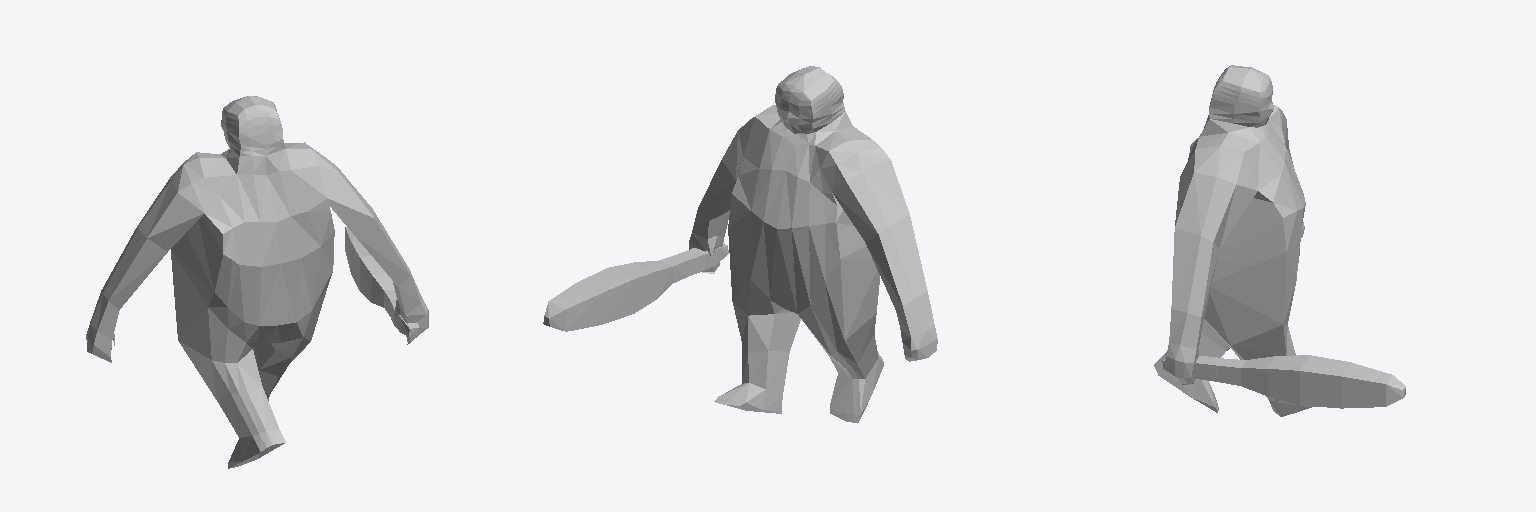
Rendered from Enemigo28.obj.
3 views of the same model, side by side, from view 1: azimuth 30°, elevation 25°; view 2: azimuth 150°, elevation 25°; view 3: azimuth 270°, elevation 25° (orthographic).
Visible parts, largest first — view 1: Cube; view 2: Cube; view 3: Cube.
Boxes of the visible parts, <box> form: Cube: <box>86,96,428,468</box>; Cube: <box>543,66,937,422</box>; Cube: <box>1154,65,1405,416</box>.
Size of the model in its own units: 2.79 by 2.82 by 1.83.